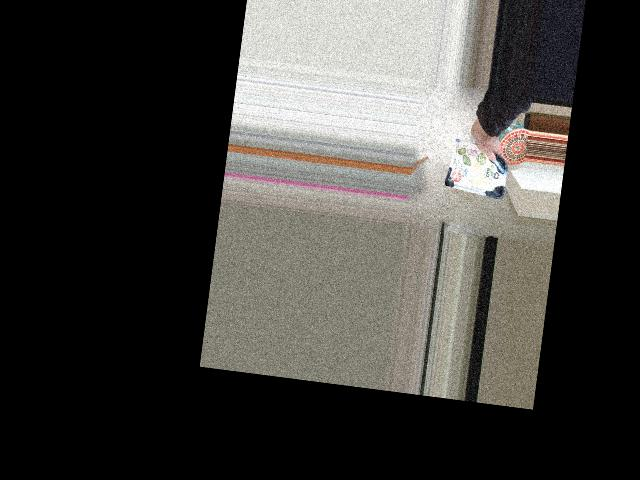cheese: (446, 129, 503, 181)
